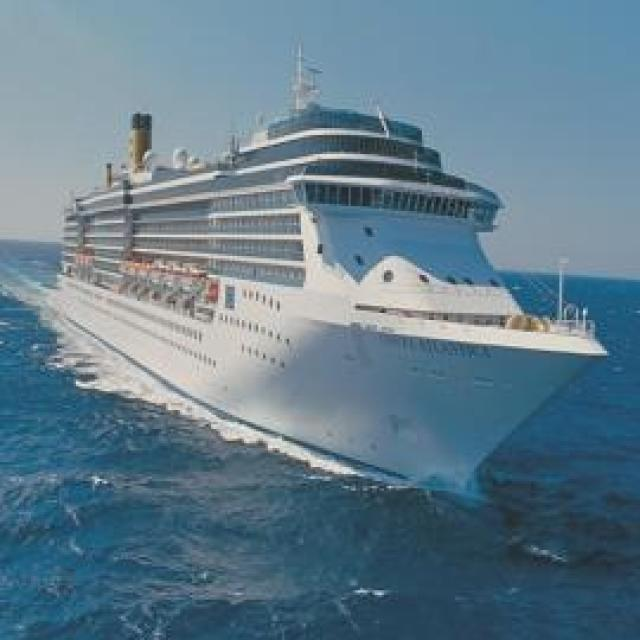passenger ship: (39, 67, 606, 495)
